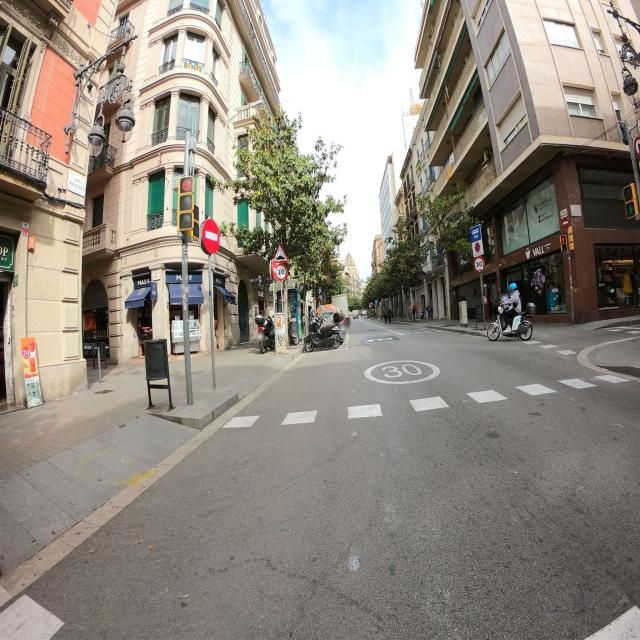forb_stopping: (475, 242, 480, 253)
